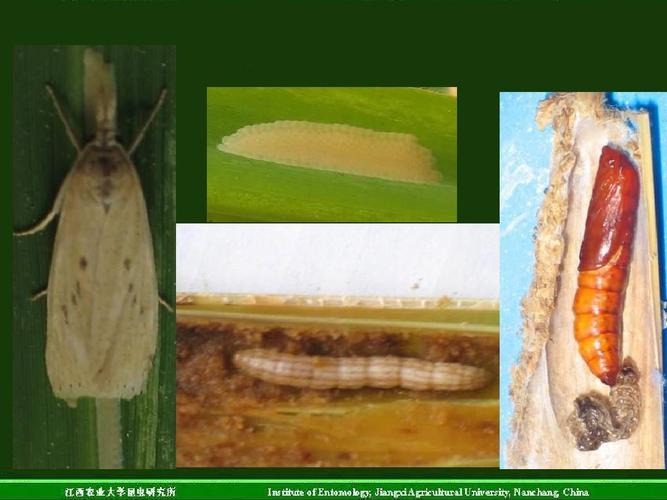Crambidae: (18, 42, 177, 416)
